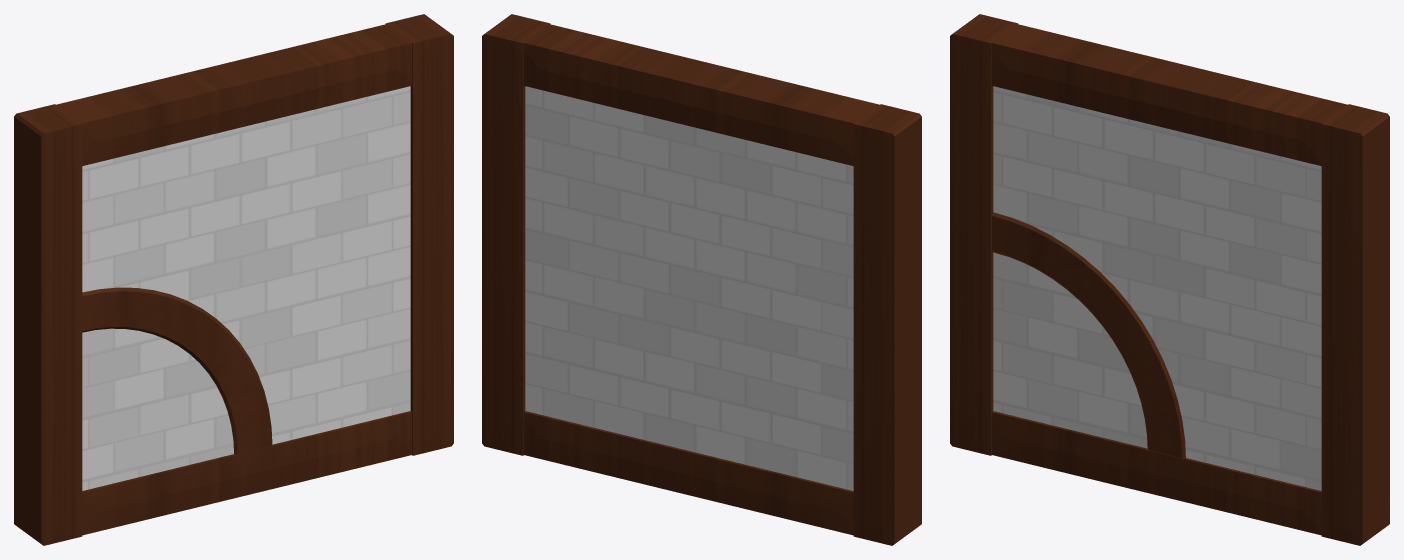
The model's file is Wall_Curve_Brick.fbx.
3 views of the same model, side by side, from view 1: azimuth 30°, elevation 25°; view 2: azimuth 150°, elevation 25°; view 3: azimuth 330°, elevation 25° (orthographic).
Parts seen in each view (by area): view 1: Wall_Curve; view 2: Wall_Curve; view 3: Wall_Curve.
Part boxes in pixels (x1=…): Wall_Curve: x1=14, y1=14, x2=453, y2=545; Wall_Curve: x1=482, y1=14, x2=921, y2=545; Wall_Curve: x1=950, y1=14, x2=1389, y2=545.
Size of the model in its own units: 212 by 202 by 26.17.
